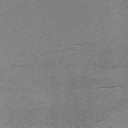finishing roll printing: (73, 42, 95, 48), (96, 86, 122, 90)
